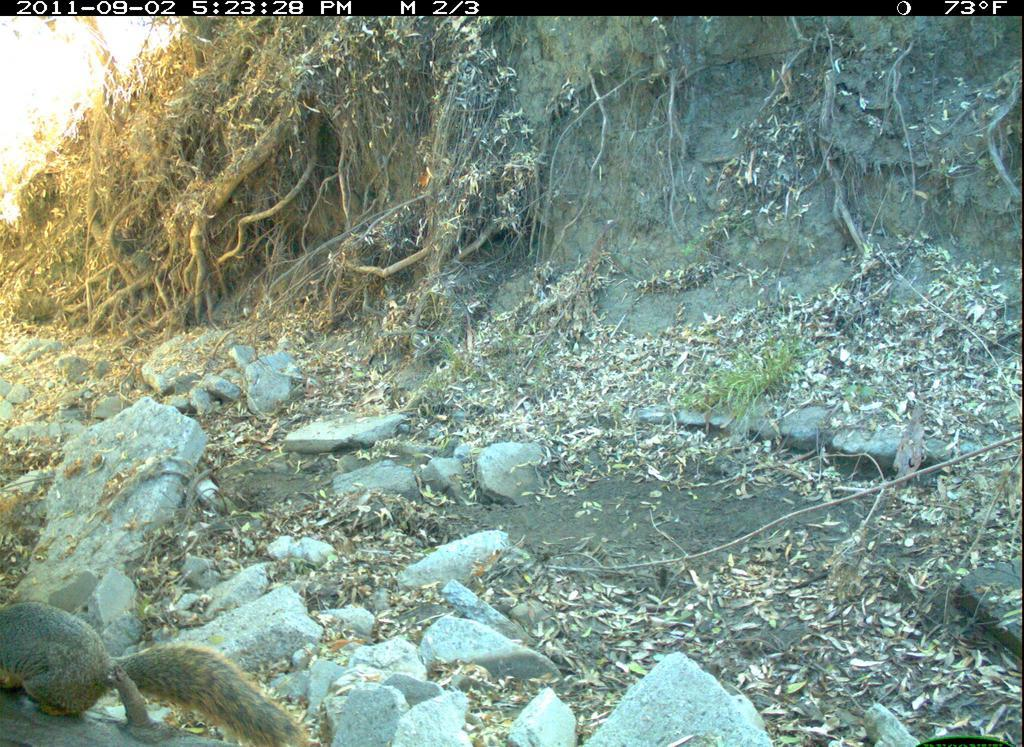squirrel: (2, 580, 326, 747)
